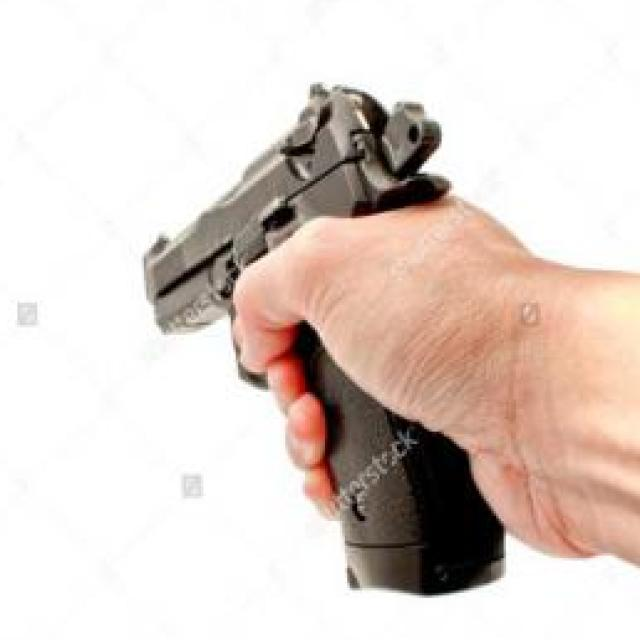pistol: (141, 79, 506, 588)
